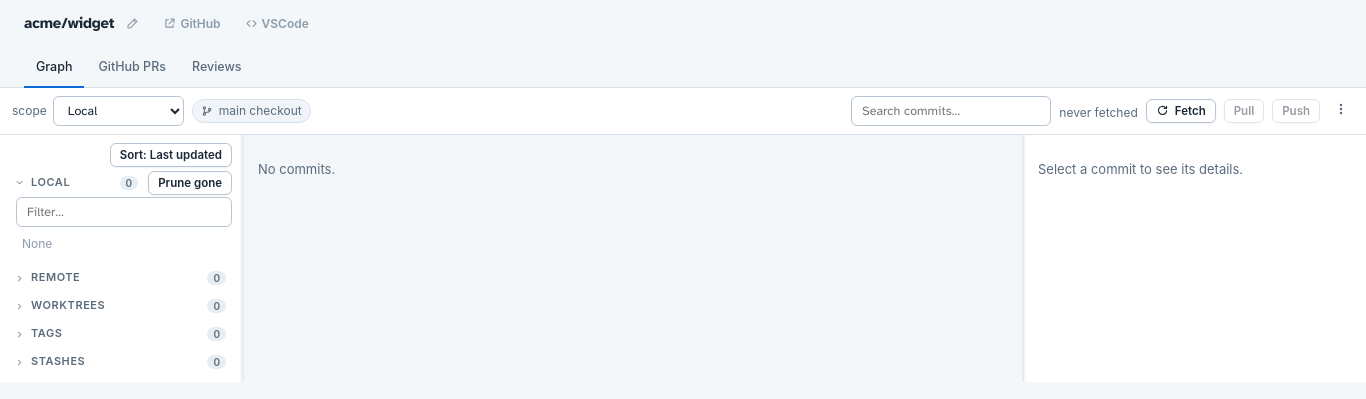
Test: RepoView tabs › shows the reviews list only on the Reviews tab
The image size is (1366, 399).
Click the button "GitHub PRs": [132, 68] box 86,49 -> 178,88
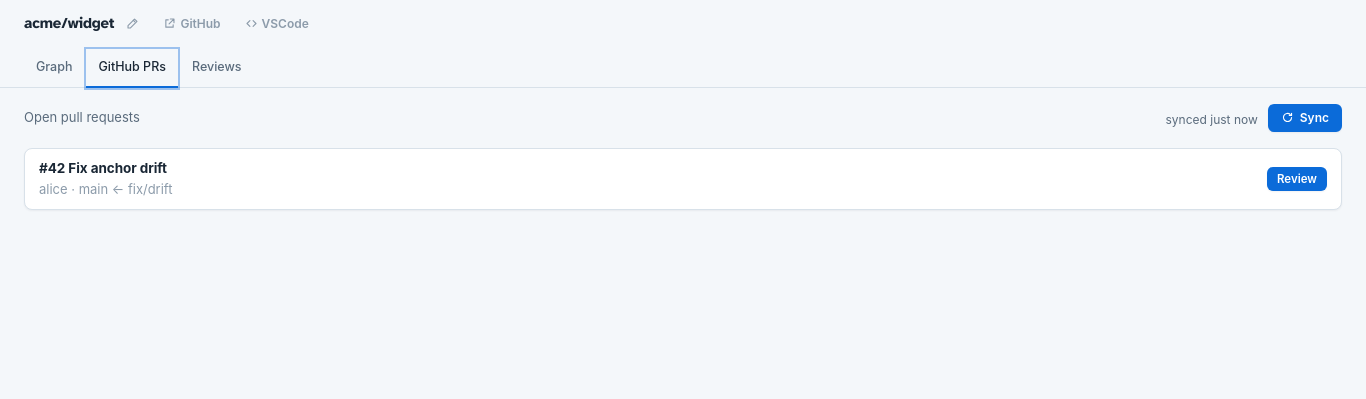
Expected: the text "No reviews yet." is not shown
Click the button "Reviews": [217, 68] box 180,49 -> 254,88
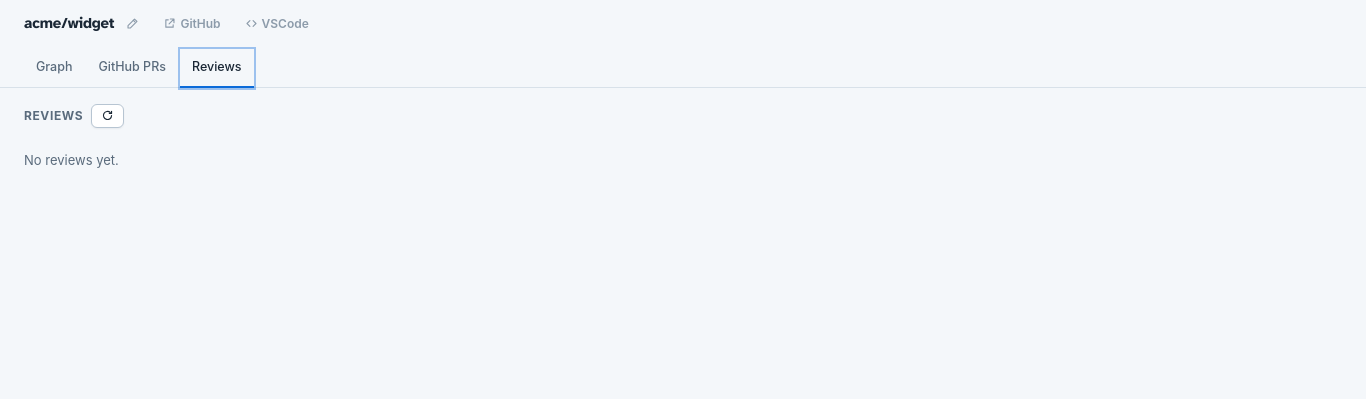
Expected: the text "No reviews yet." is shown, 24,152 -> 119,168
